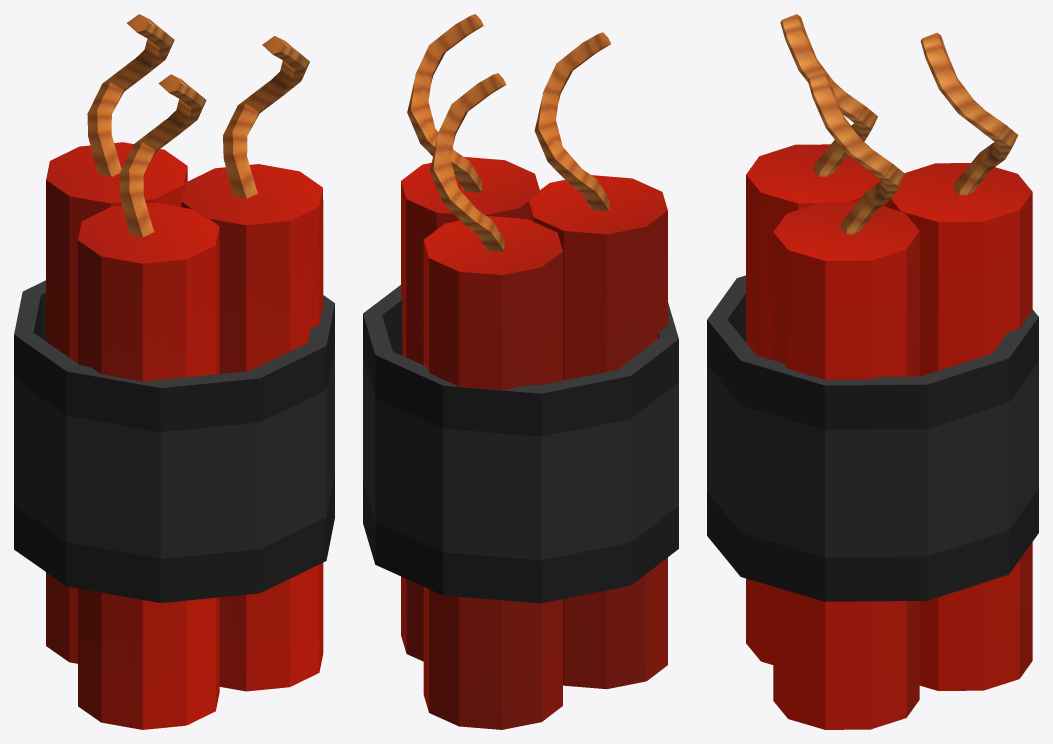
File: Dynamite_01.fbx
3 renders of one model, left to right at view 1: azimuth 30°, elevation 25°; view 2: azimuth 150°, elevation 25°; view 3: azimuth 270°, elevation 25°, orthographic. The views are drawn at different scales.
Parts seen in each view (by area): view 1: Dynamite_01; view 2: Dynamite_01; view 3: Dynamite_01.
Boxes of the visible parts, x1,y1,x2,y2 form: Dynamite_01: (14,14,334,729); Dynamite_01: (363,14,678,729); Dynamite_01: (707,14,1038,729).
Size of the model in its own units: 272 by 601 by 285.
